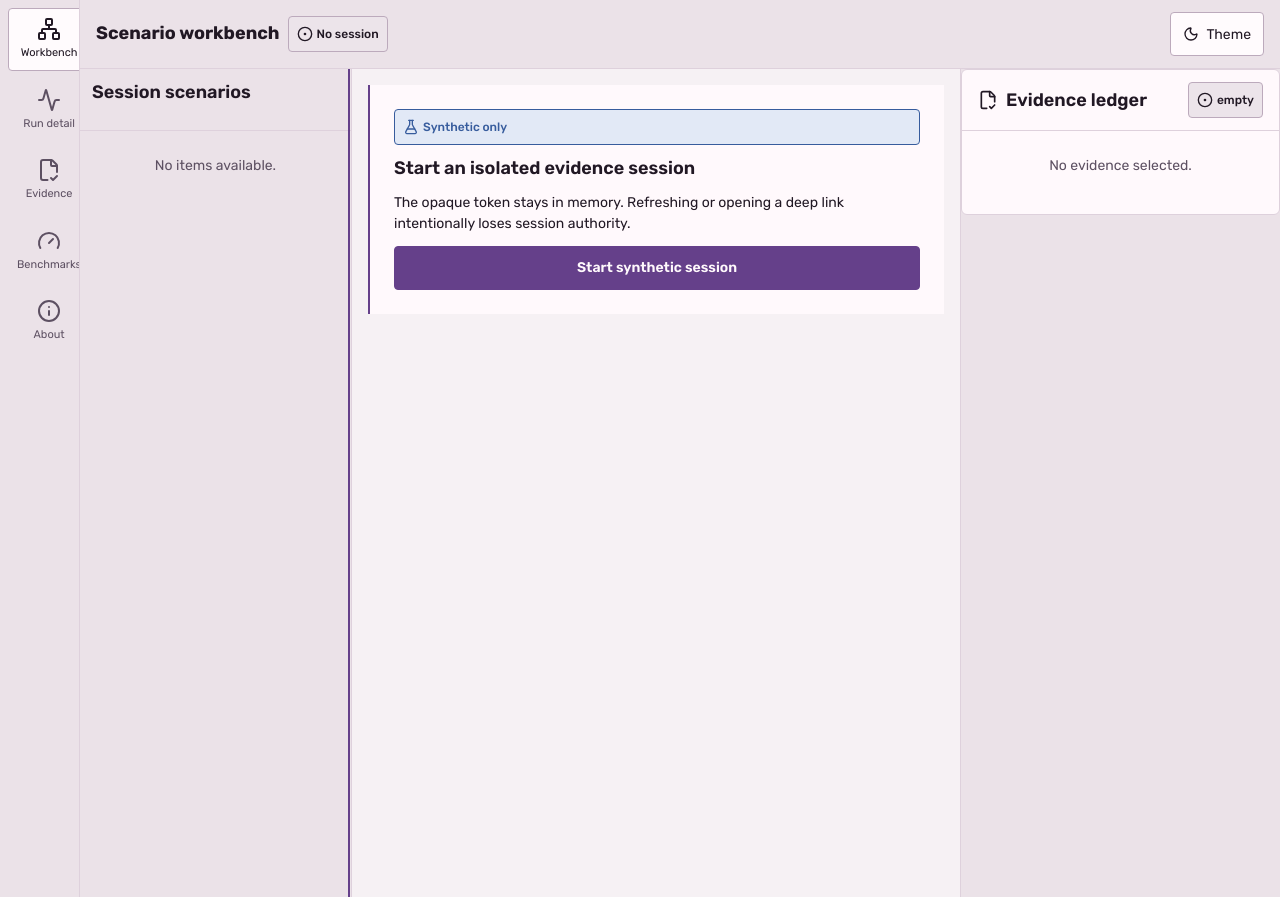
governed console lifecycle › labels metric deltas as neutral changes without inventing an optimization direction
Click the button "Start synthetic session". click: click(657, 268)
box: [394, 246, 920, 290]
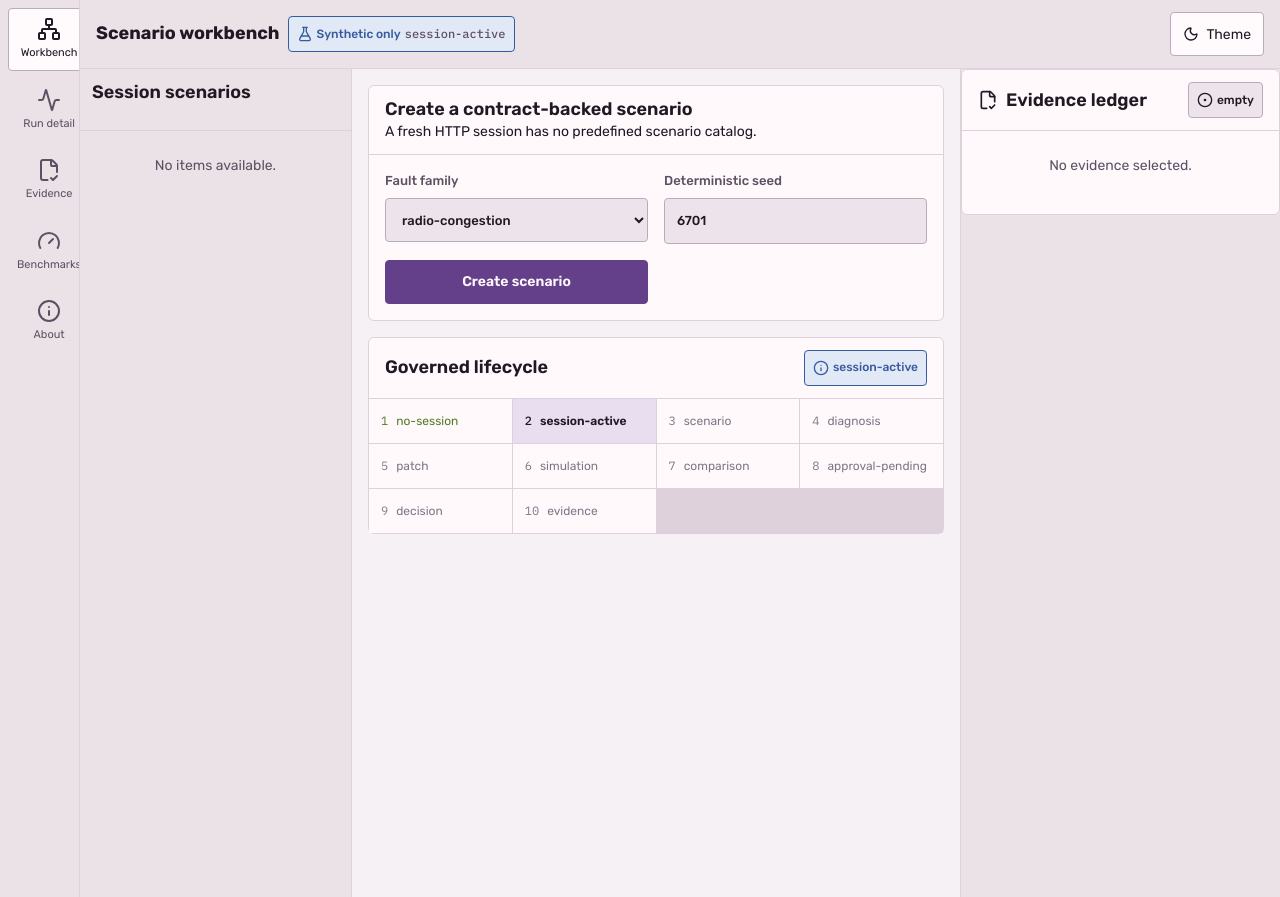
Click the button "Create scenario". click: click(516, 282)
box: [385, 260, 648, 304]
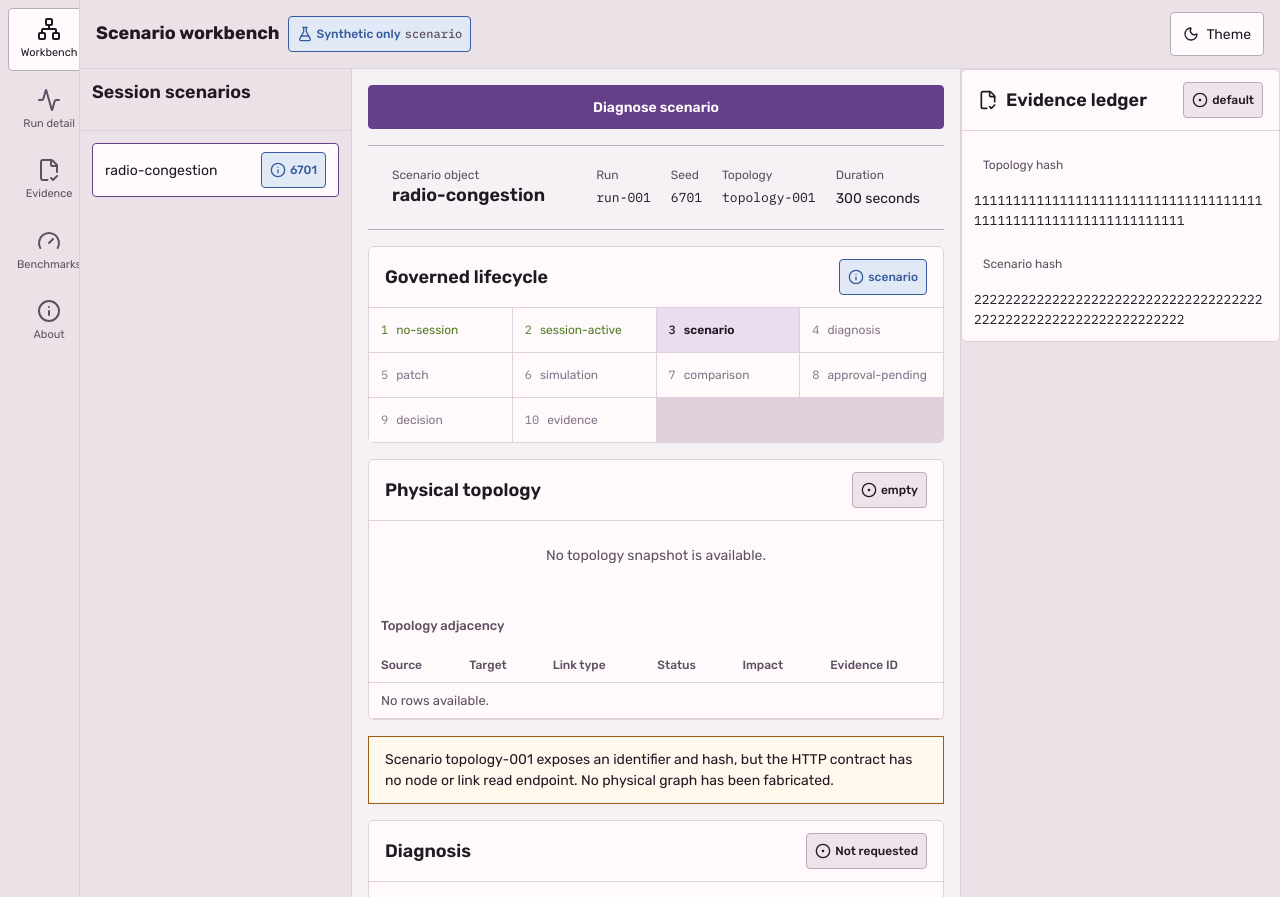
Click the button "Diagnose scenario". click: click(656, 107)
box: [368, 85, 944, 129]
(page scrolled)
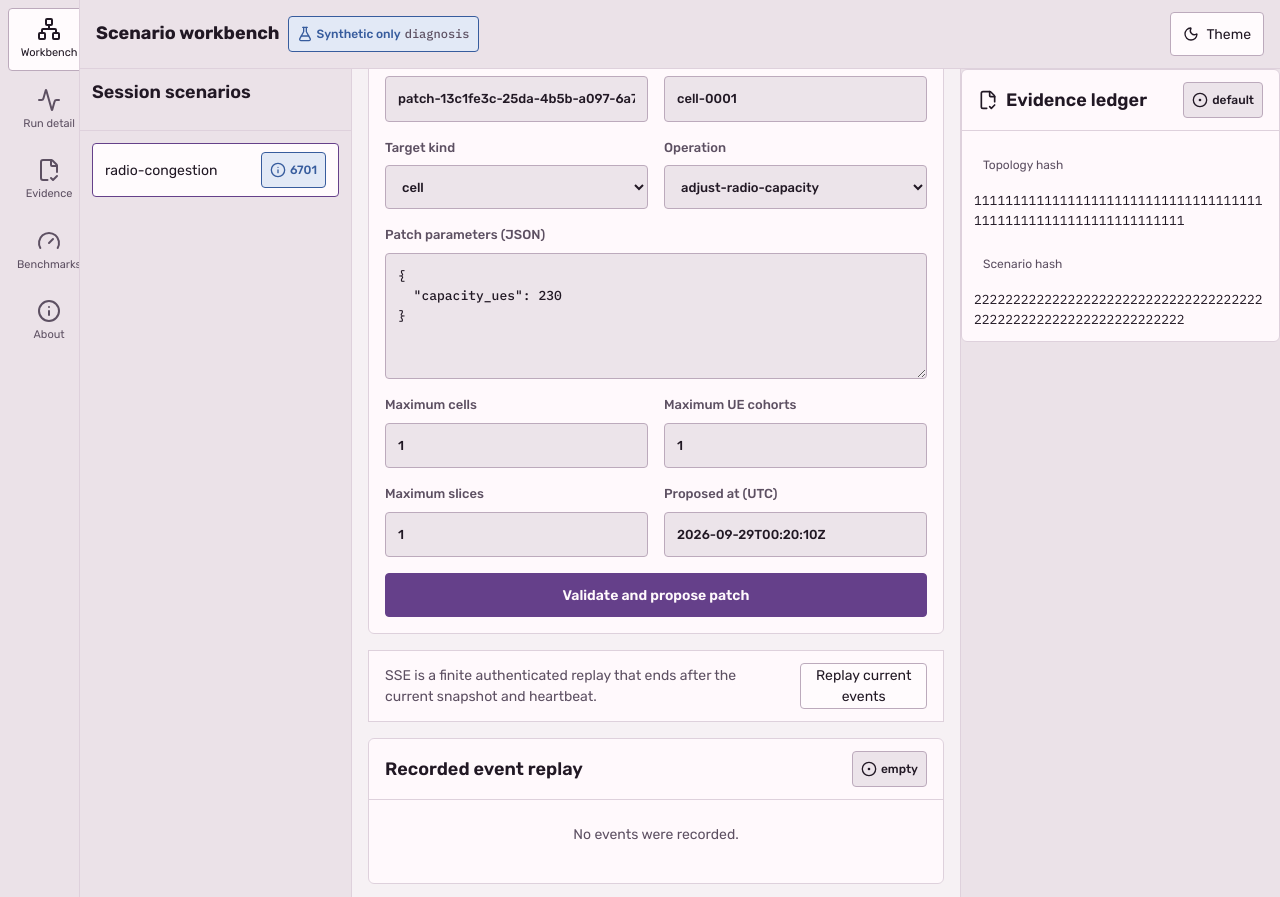
Click the button "Validate and propose patch". click: click(656, 595)
box: [385, 573, 927, 617]
(page scrolled)
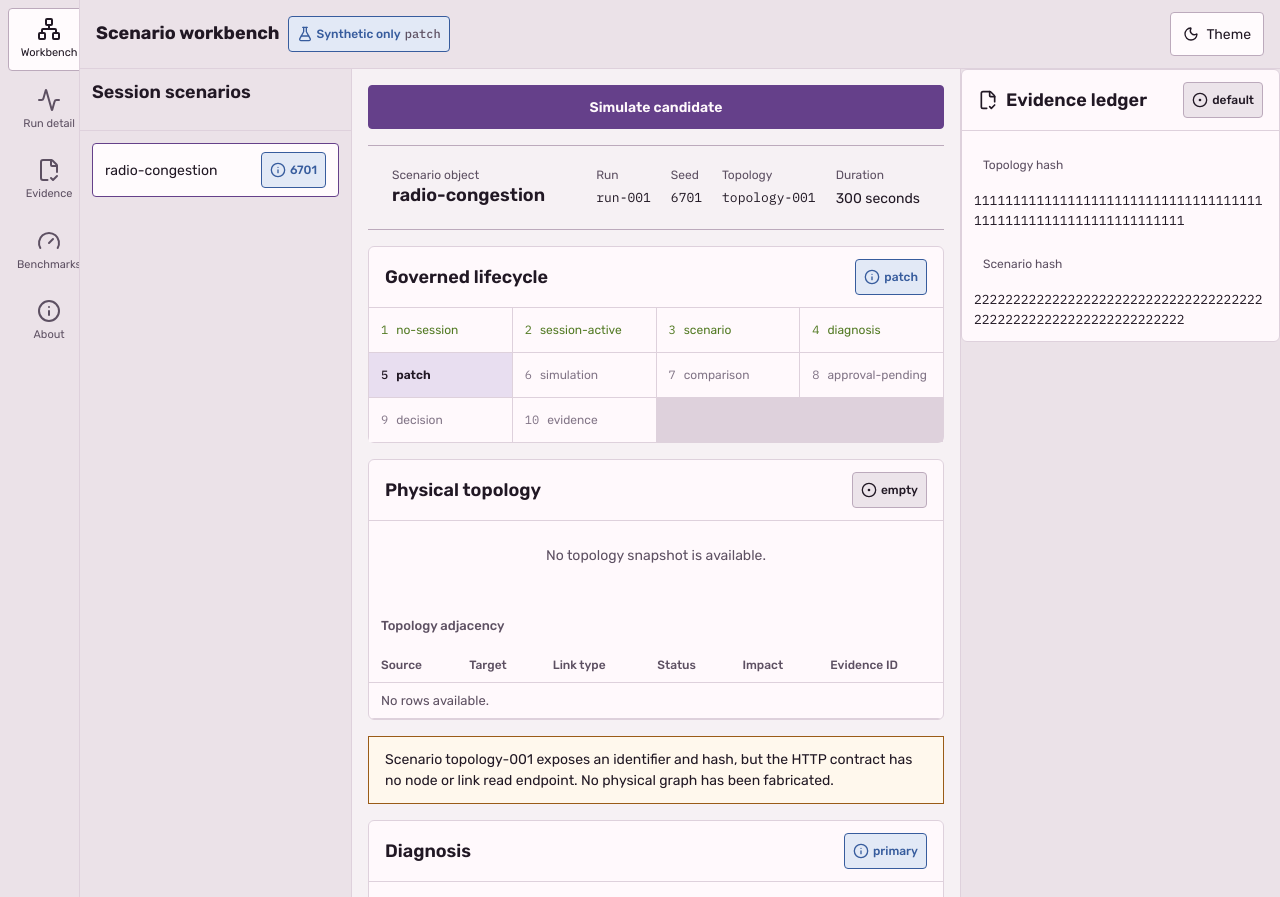
Click the button "Simulate candidate". click: click(656, 107)
box: [368, 85, 944, 129]
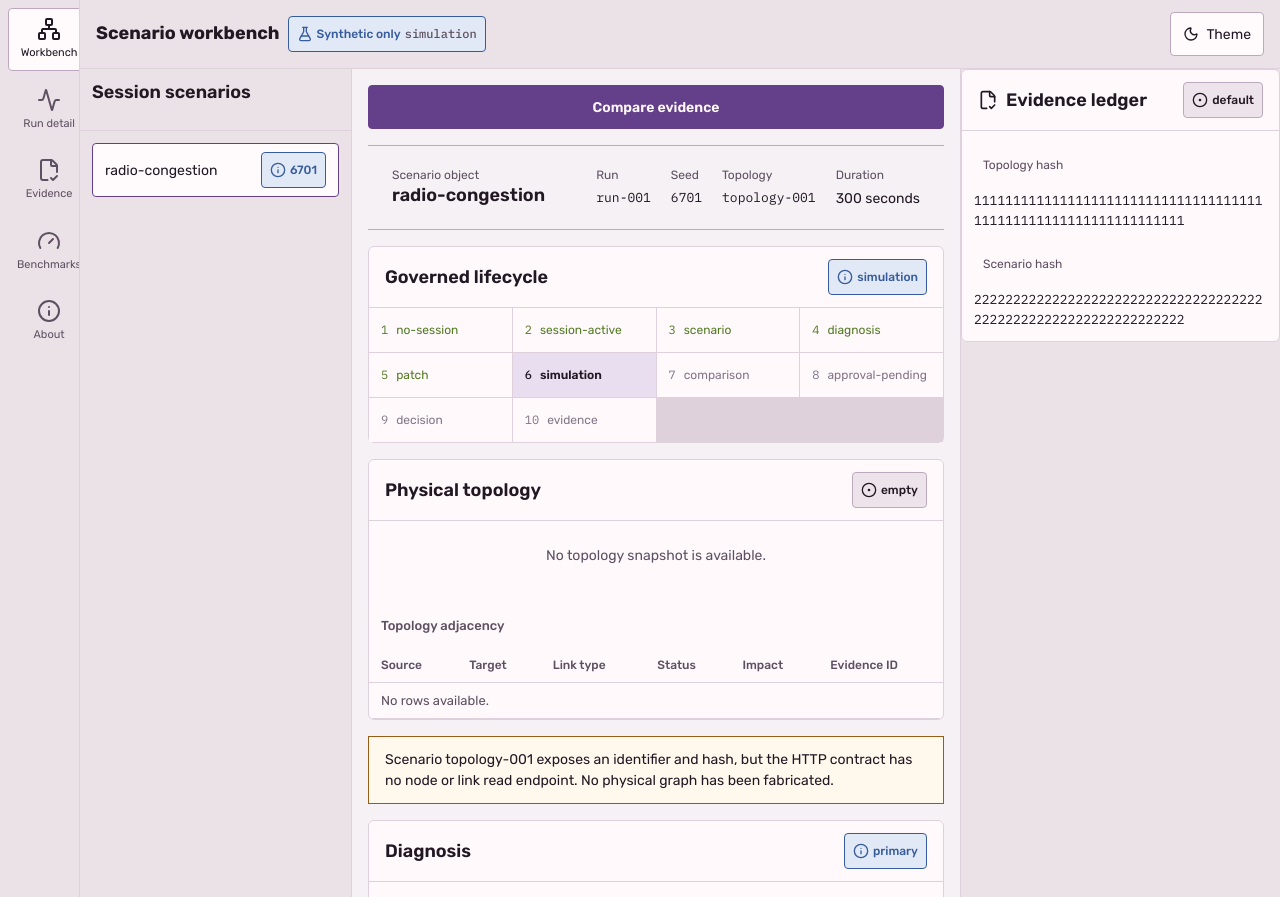
Click the button "Compare evidence". click: click(656, 107)
box: [368, 85, 944, 129]
(page scrolled)
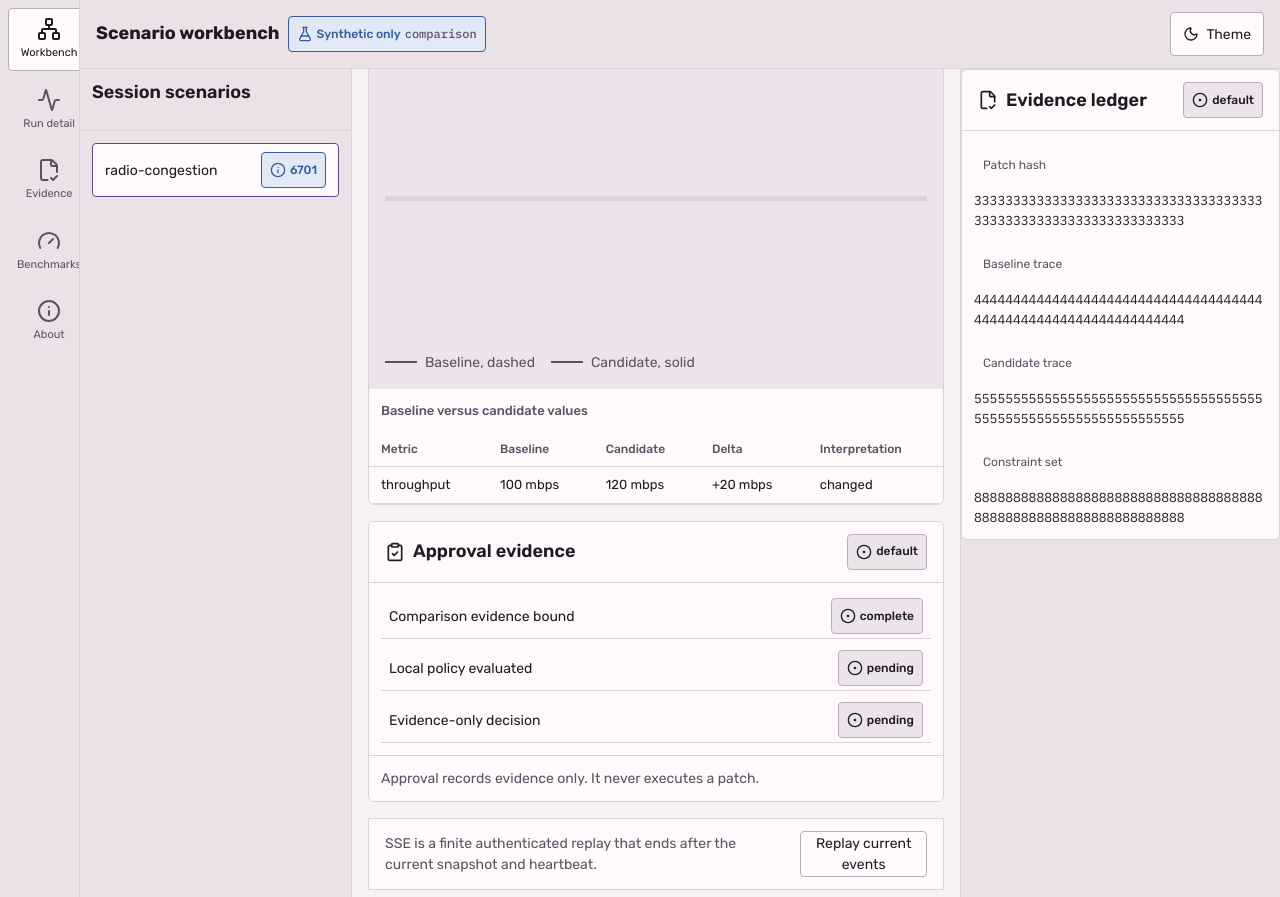
Expected: the cell "changed" is shown, [808, 466, 943, 503]
